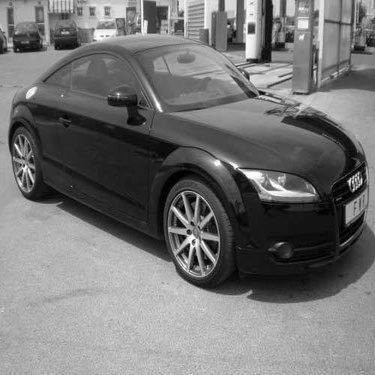car: (7, 29, 372, 295), (95, 14, 134, 52), (11, 20, 48, 53), (58, 18, 86, 52), (1, 22, 10, 58)
